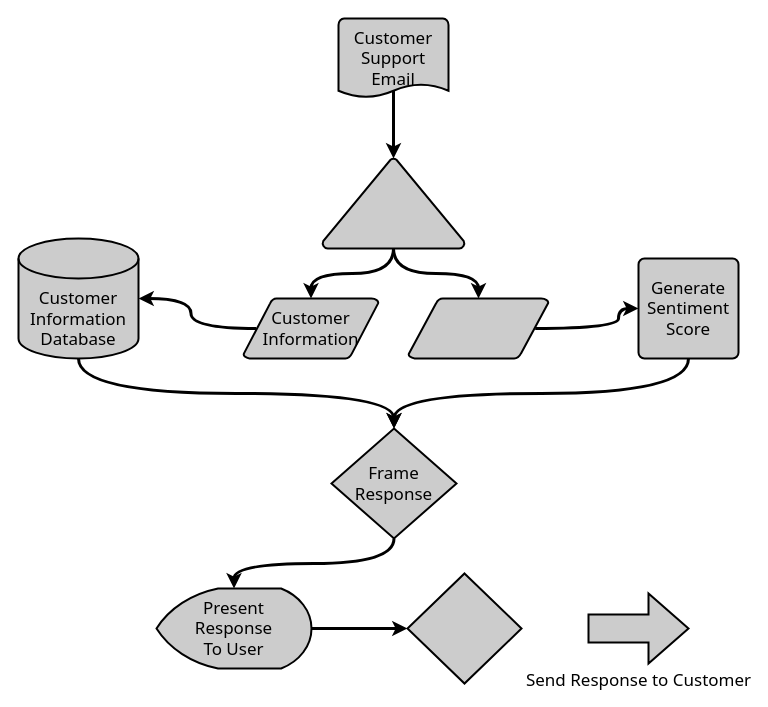
Some shapes in this 768 by 707 pixel diagram are drawn without their labels. The centre of each missing label's shape, as x and y in pixels:
"Keywords Query" belongs at point (478, 328).
"Modify Response" belongs at point (464, 628).
"Process Email" belongs at point (393, 203).
